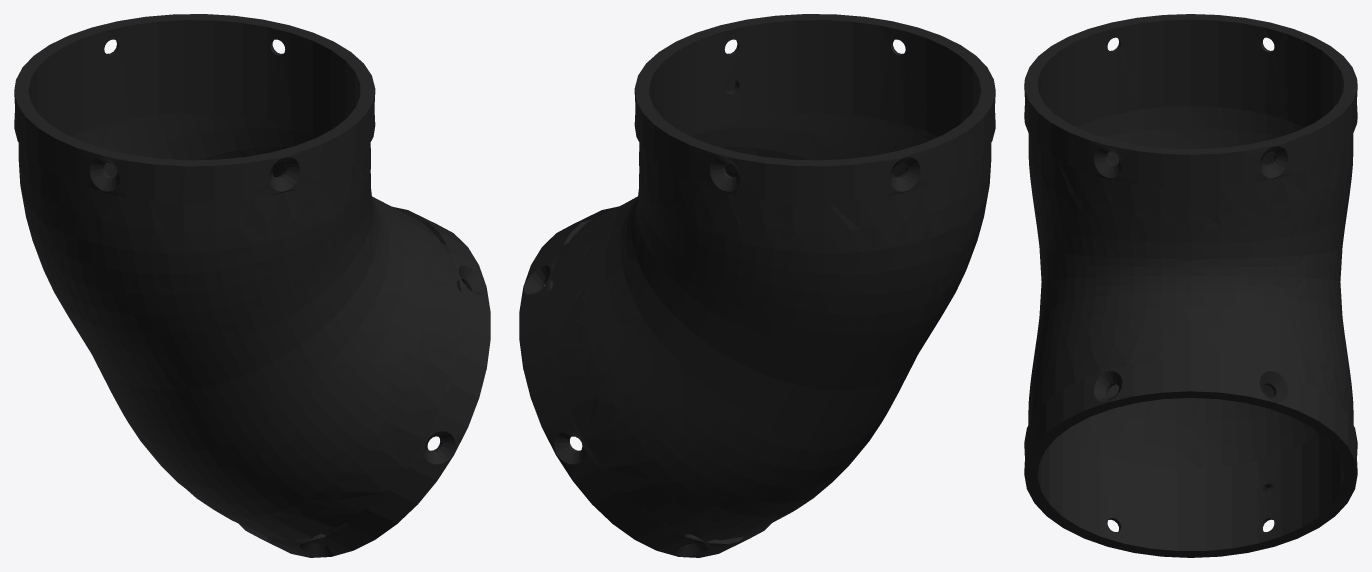
The model's file is jaco_link_4_5.dae.
3 renders of one model, left to right at view 1: azimuth 30°, elevation 25°; view 2: azimuth 150°, elevation 25°; view 3: azimuth 270°, elevation 25°, orthographic. The views are drawn at different scales.
Visible parts, largest first — view 1: Component_2 (×5); view 2: Component_2 (×5); view 3: Component_2 (×5).
Part boxes in pixels (<box>): Component_2 (×5): <box>14,14,490,557</box>; Component_2 (×5): <box>519,14,995,557</box>; Component_2 (×5): <box>1024,14,1357,557</box>.
Bounding box in the file's own units: 130 × 97.65 × 142.
Materials: 1 (1 with a texture image).
